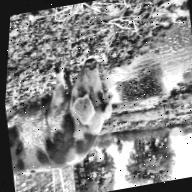boar: (1, 53, 125, 178)
